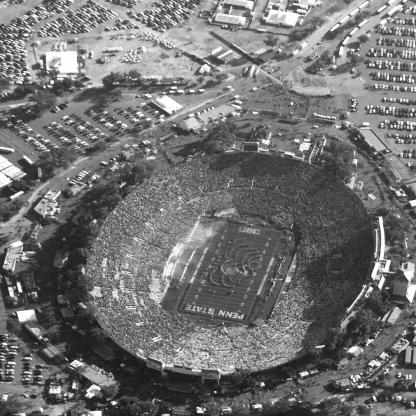B2: (212, 65, 284, 85)
